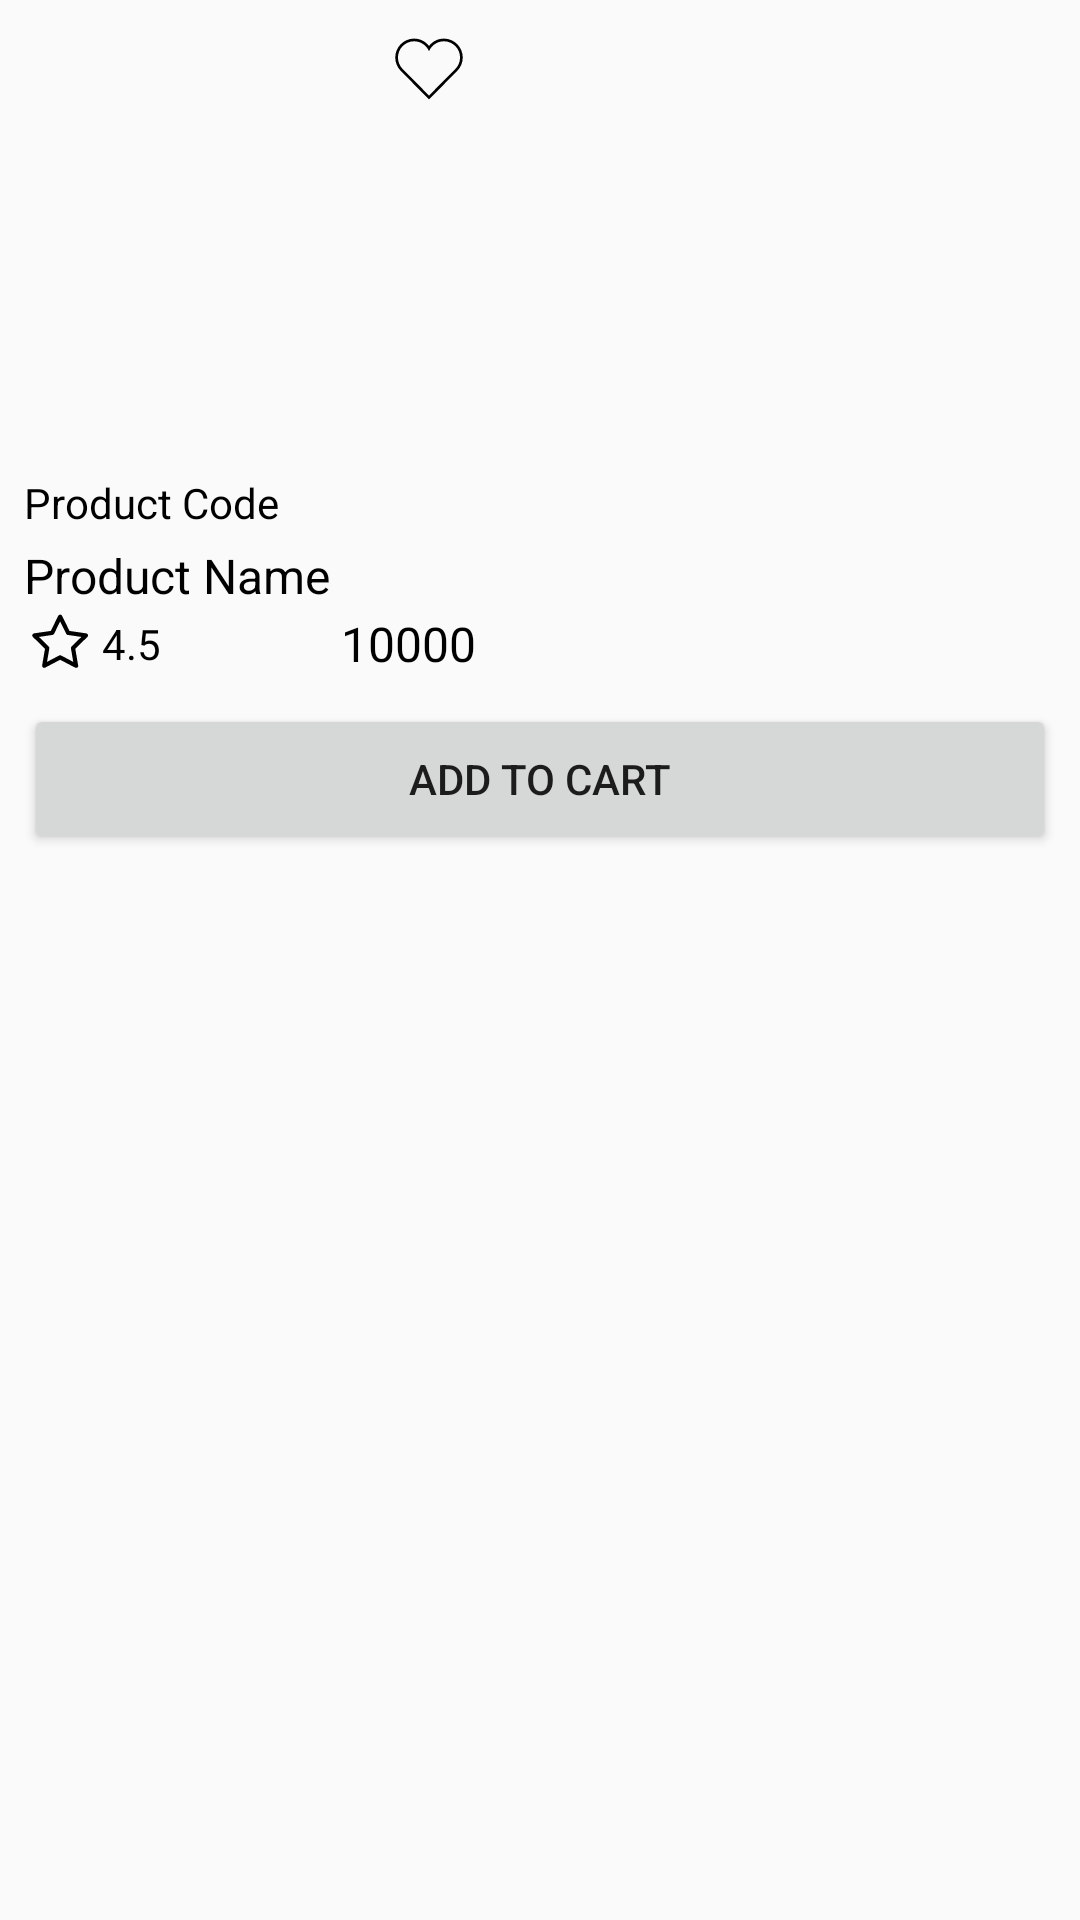

Icon click points for this 1080 x 1920 phone screenshot, format (x,y):
Add to Favorites: (429,68)
